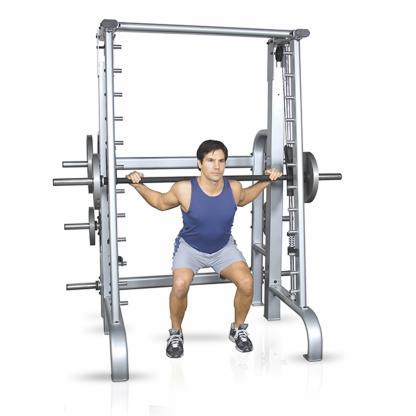smith machine: (54, 17, 342, 383)
